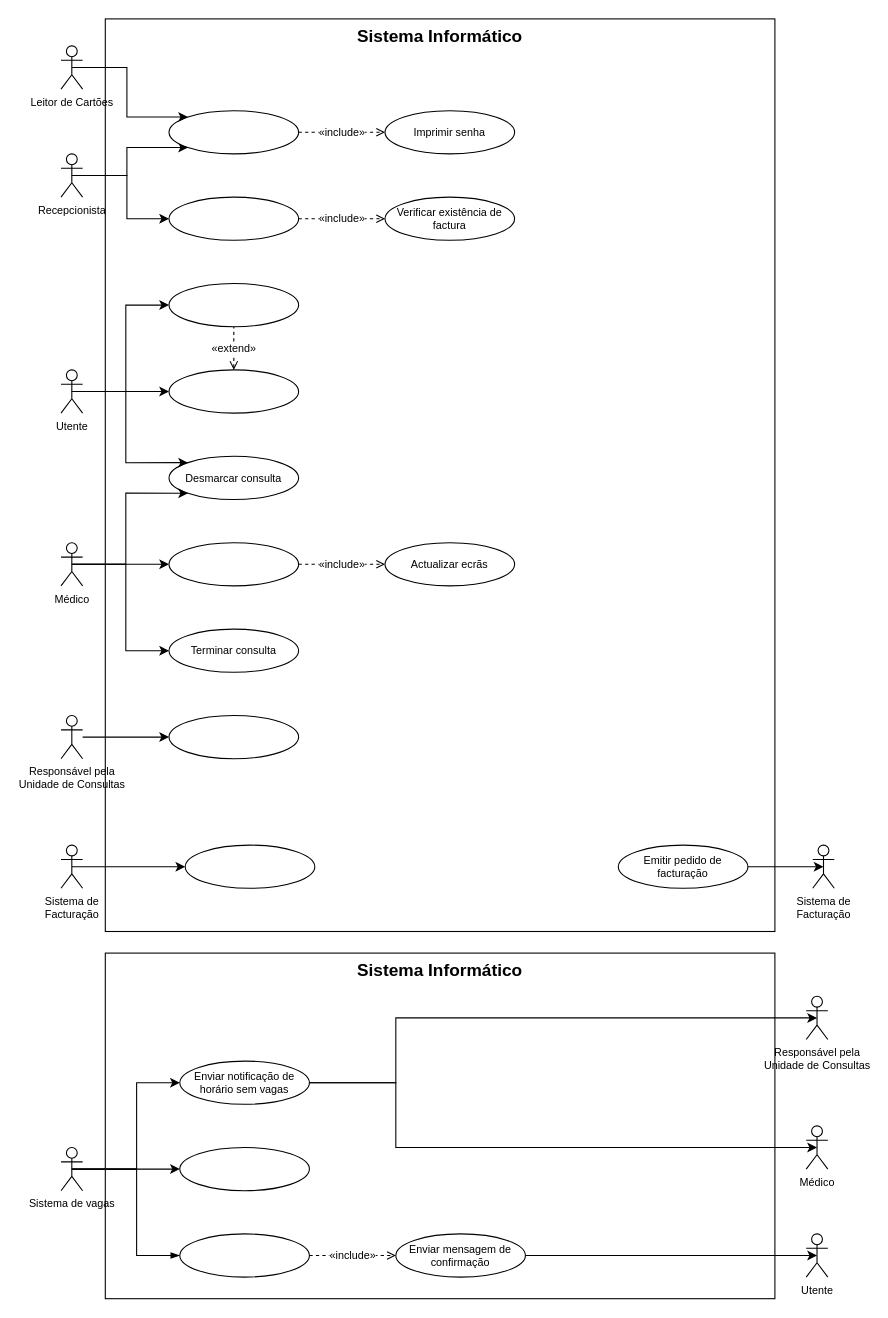
Some shapes in this 888 by 1318 pixel diagram are drawn without their labels. The centre of each missing label's shape, as x and y in pixels:
Abrir horários extra: the point at 233,736
Atribuir vaga: the point at 244,1255
Chamar Próximo Utente: the point at 233,564
Emitir número de factura: the point at 249,866
Marcar Consulta: the point at 233,304
Preencher calendário de vagas: the point at 244,1168
Reagendar consulta: the point at 233,391
Registar entrada de Utente: the point at 233,132
Registar pagamento: the point at 233,218
